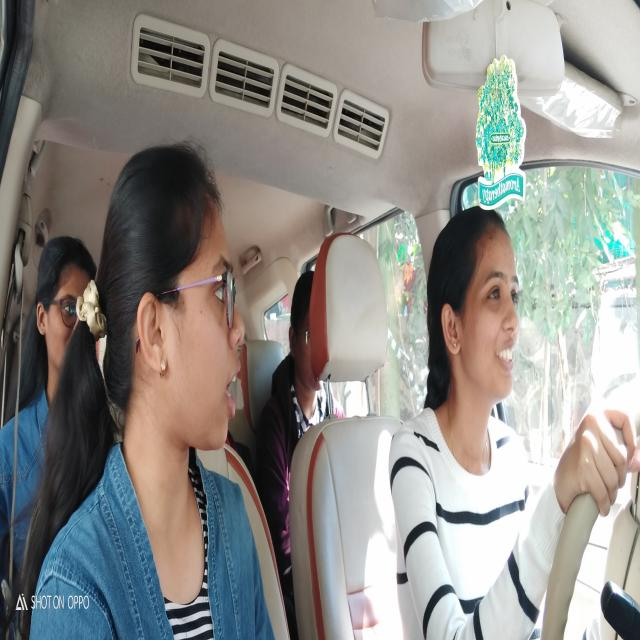person: (104, 137, 243, 472), (428, 198, 525, 432), (31, 215, 98, 381), (286, 259, 338, 416)
